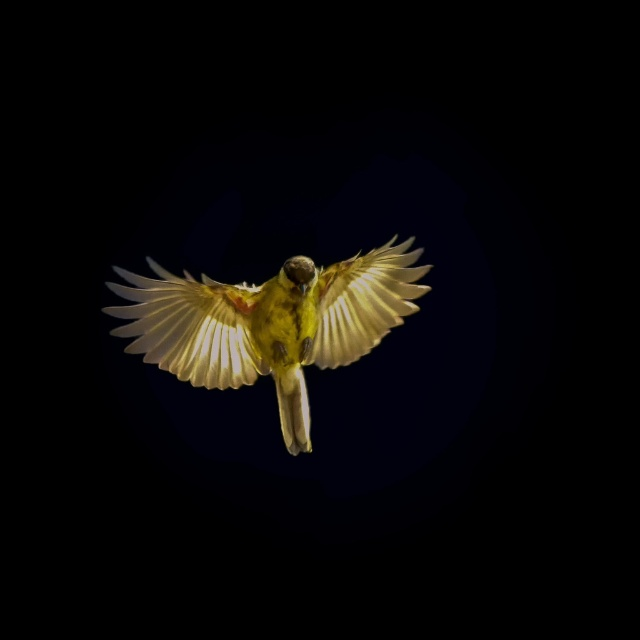Parrot: (100, 233, 434, 460)
